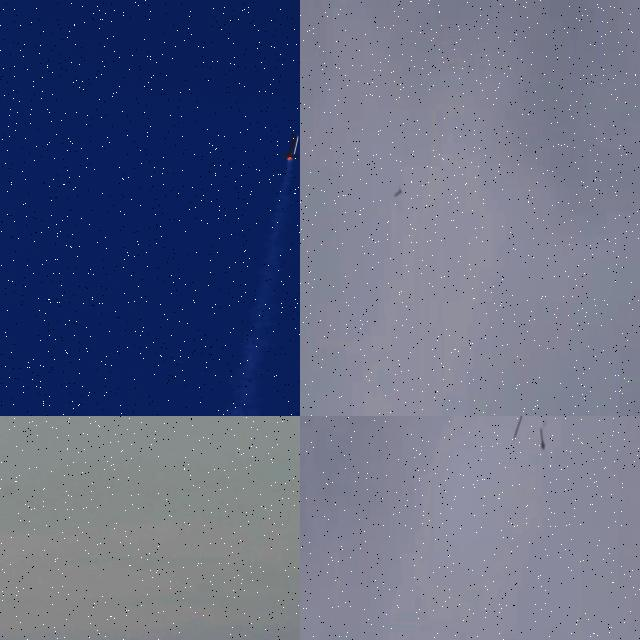Rocket: (280, 133, 300, 163), (540, 429, 545, 449), (394, 189, 402, 196)
